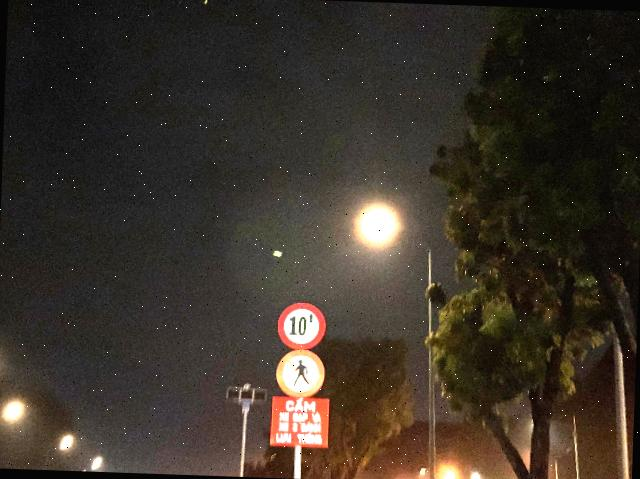cam-nguoi-di-bo: (276, 348, 326, 398)
han-che-trong-luong-xe: (276, 301, 326, 350)
